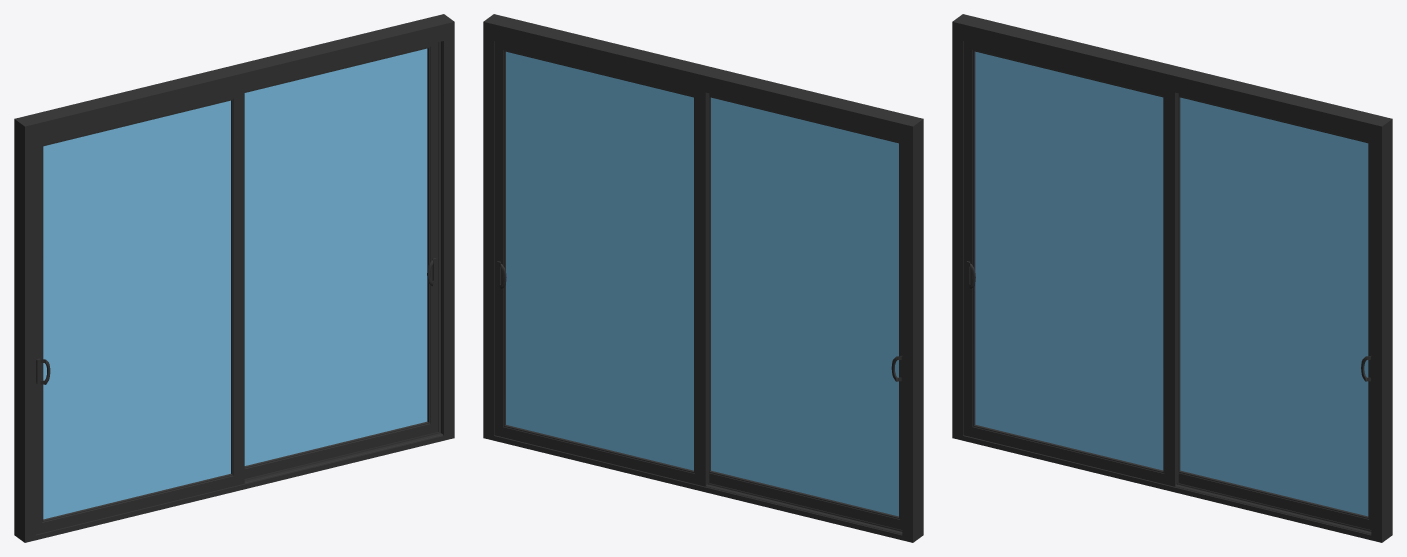
The model's file is SlidingDoors.FBX.
3 views of the same model, side by side, from view 1: azimuth 30°, elevation 25°; view 2: azimuth 150°, elevation 25°; view 3: azimuth 330°, elevation 25° (orthographic).
Parts seen in each view (by area): view 1: SM_SlidingDoors; view 2: SM_SlidingDoors; view 3: SM_SlidingDoors.
Boxes of the visible parts, <box> form: SM_SlidingDoors: <box>14,14,454,542</box>; SM_SlidingDoors: <box>483,14,923,542</box>; SM_SlidingDoors: <box>952,14,1392,542</box>.
Bounding box in the file's own units: 270 × 15.11 × 250.
